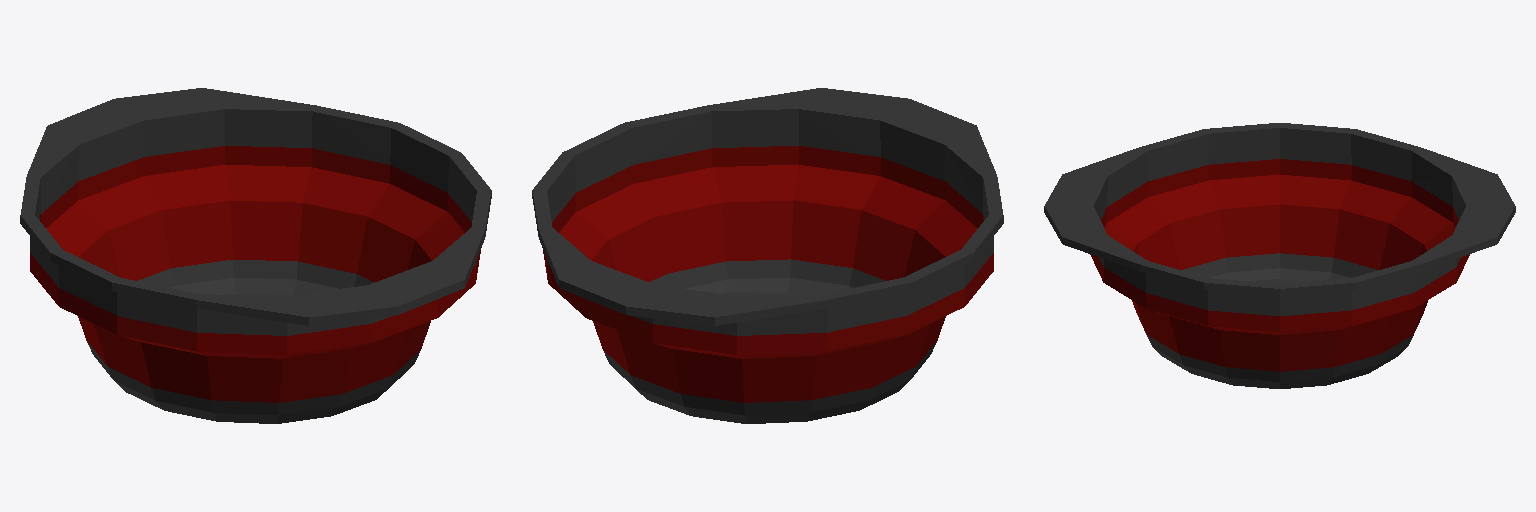
robot.urdf — red_bowl:
<?xml version="1.0"?>

<robot name="red_bowl">
  <link name="red_bowl_frame">
    <visual>
      <origin xyz="0.0 0.0 0.1" rpy="0.0 0.0 0.0"/>
      <geometry>
        <mesh filename="package://iai_kitchen/meshes/racks/BoxyToolholder/red_bowl.dae"/>
      </geometry>
    </visual>
  </link>
</robot>

--- Facts derived from the render (not from the file) ---
3 views of the same robot in one strip: view 1: azimuth 30°, elevation 25°; view 2: azimuth 150°, elevation 25°; view 3: azimuth 270°, elevation 25° (orthographic).
Model red_bowl with 1 links and 0 joints (none), rooted at red_bowl_frame, posed every joint at zero.
Links seen in each view (by area): view 1: red_bowl_frame; view 2: red_bowl_frame; view 3: red_bowl_frame.
Boxes of the visible links, x1,y1,x2,y2 form: red_bowl_frame: (20,88,491,423); red_bowl_frame: (532,88,1003,423); red_bowl_frame: (1044,123,1515,388).
Size in the robot's own frame: 0.2803 by 0.3352 by 0.1027 metres.
1 mesh visuals loaded from 1 distinct referenced files (1 Collada DAE).